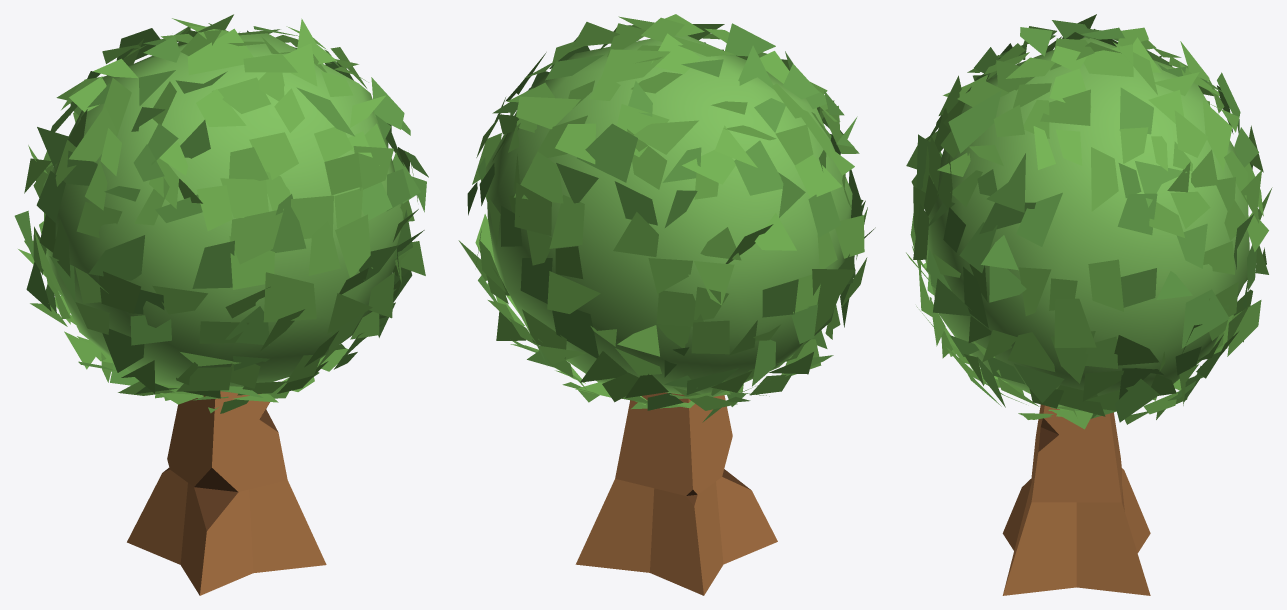
Rendered from BUSH.fbx.
The picture shows the model from 3 angles, left to right: view 1: azimuth 30°, elevation 25°; view 2: azimuth 150°, elevation 25°; view 3: azimuth 270°, elevation 25°; orthographic projection.
Parts seen in each view (by area): view 1: Cube.035; view 2: Cube.035; view 3: Cube.035.
Boxes of the visible parts, x1=… form: Cube.035: x1=14, y1=14, x2=428, y2=595; Cube.035: x1=458, y1=14, x2=875, y2=595; Cube.035: x1=906, y1=14, x2=1272, y2=595.
Size of the model in its own units: 581 by 800 by 508.
